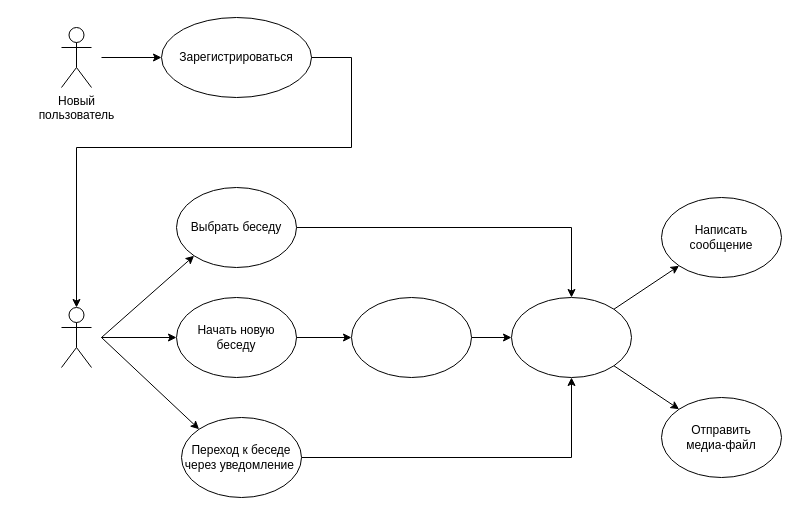
This 799x515 diagram has some shape labels left out. The centre of each missing label's shape, as x and y in pixels:
Выбрать собеседника по никнейму: (411,337)
Зарегистрированный пользователь: (76,337)
Начало беседы: (571,337)
